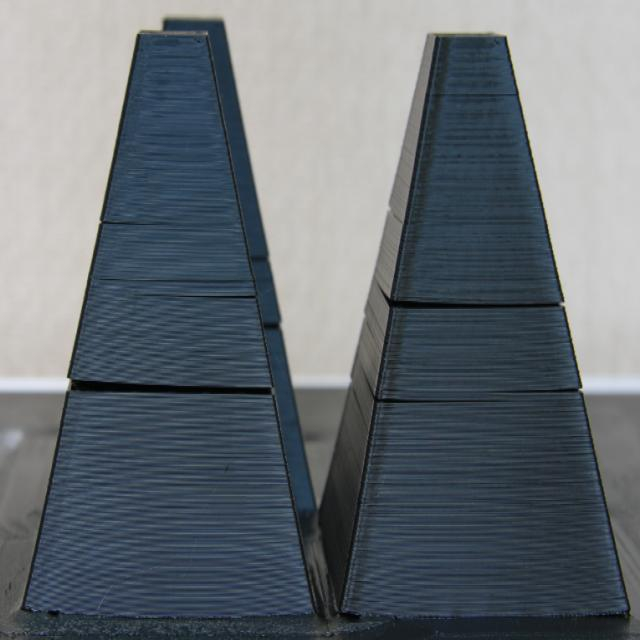cracks: (70, 360, 272, 422), (380, 375, 589, 420), (385, 286, 570, 331)
